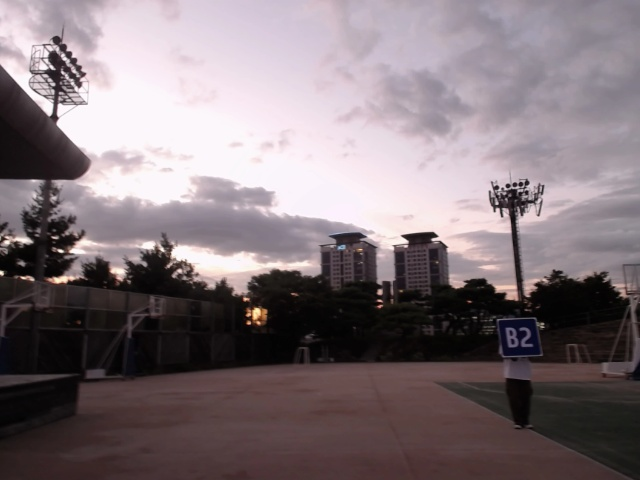delivery_b2: (496, 317, 543, 358)
